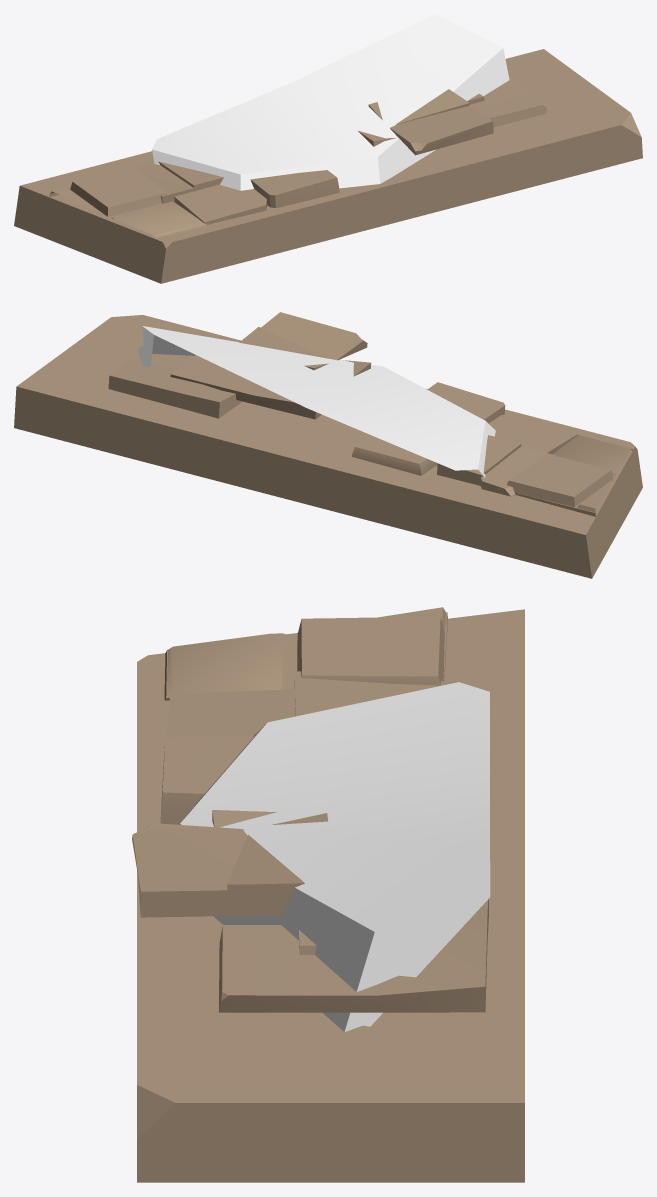
File: stone+floor.FBX
3 views of the same model, one above another, from view 1: azimuth 30°, elevation 25°; view 2: azimuth 150°, elevation 25°; view 3: azimuth 270°, elevation 25° (orthographic). The views are drawn at different scales.
Visible parts, largest first — view 1: Stone floor, snow049, ston249, ston247, ston245, ston244, ston248; view 2: Stone floor, snow049, ston249, ston247, ston244, ston245, ston246, ston248; view 3: Stone floor, snow049, ston249, ston244, ston245, ston247, ston248, ston246.
Boxes of the visible parts, x1,y1,x2,y2 form: Stone floor: [14, 49, 642, 283]; snow049: [152, 14, 509, 190]; ston249: [49, 167, 206, 239]; ston247: [174, 170, 339, 224]; ston245: [368, 89, 493, 155]; ston244: [470, 76, 546, 127]; ston248: [134, 161, 223, 203]; Stone floor: [14, 315, 642, 578]; snow049: [138, 326, 495, 477]; ston249: [506, 435, 632, 516]; ston247: [352, 382, 577, 475]; ston244: [108, 326, 242, 418]; ston245: [239, 312, 367, 370]; ston246: [170, 355, 371, 419]; ston248: [437, 435, 555, 496]; Stone floor: [137, 609, 524, 1182]; snow049: [179, 682, 490, 1031]; ston249: [164, 607, 447, 700]; ston244: [219, 899, 488, 1012]; ston245: [132, 813, 328, 917]; ston247: [160, 689, 295, 824]; ston248: [294, 671, 450, 716]; ston246: [212, 810, 316, 954].
Size of the model in its own units: 23.76 by 5.03 by 7.6.
